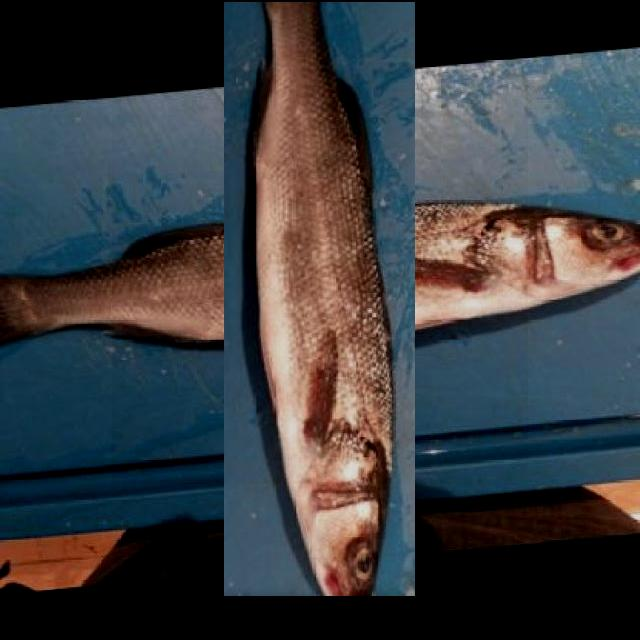Healthy Fish: (112, 68, 528, 483)
